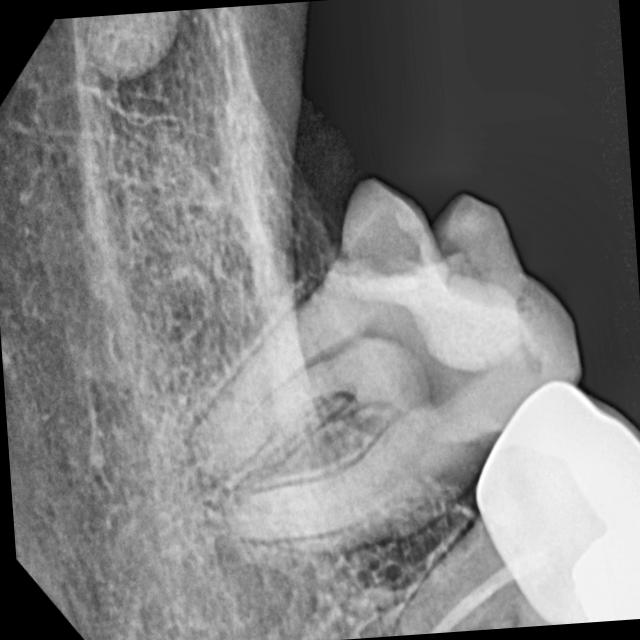Badly Decayed: (240, 150, 604, 483)
Crown: (451, 366, 640, 630)
